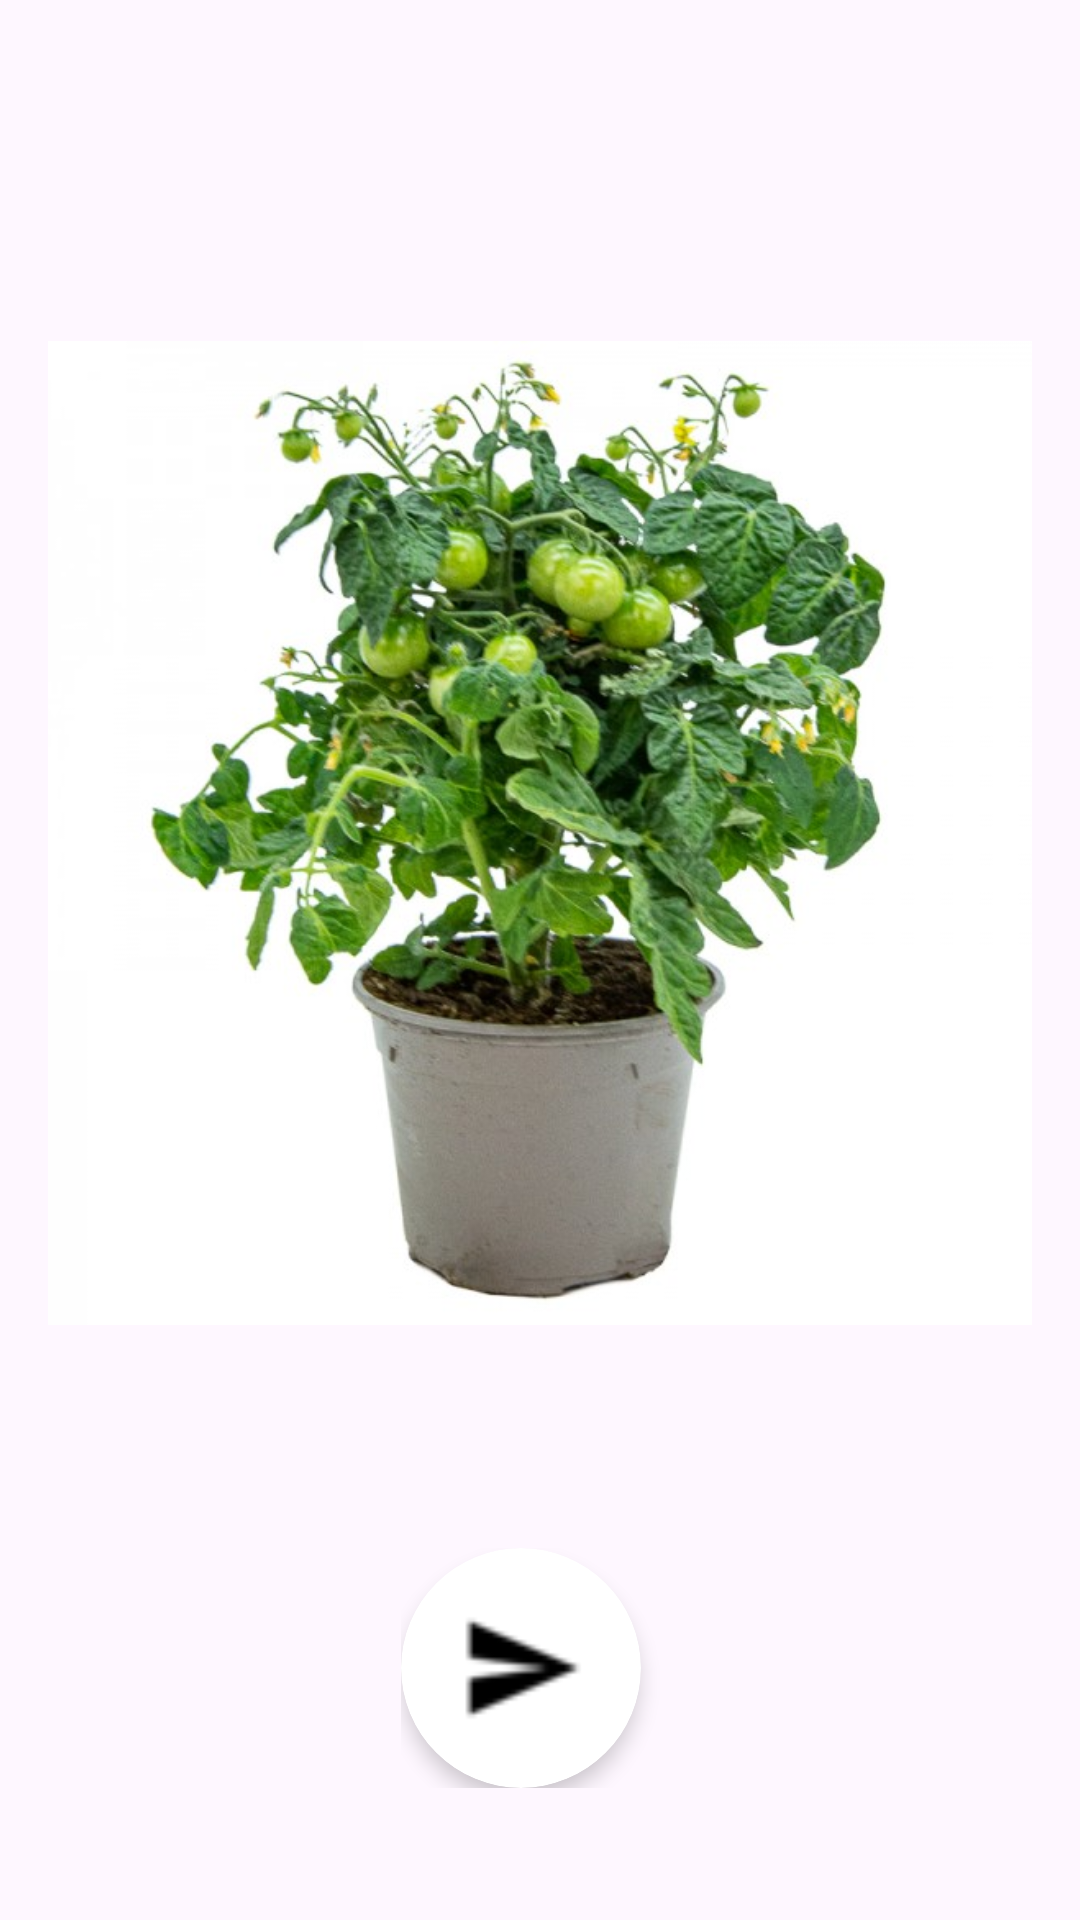

Icons on this 1080 x 1920 Android screen, each with its box as bbox(x1, y1, x2, y2):
enviar: bbox(401, 1548, 641, 1788)
